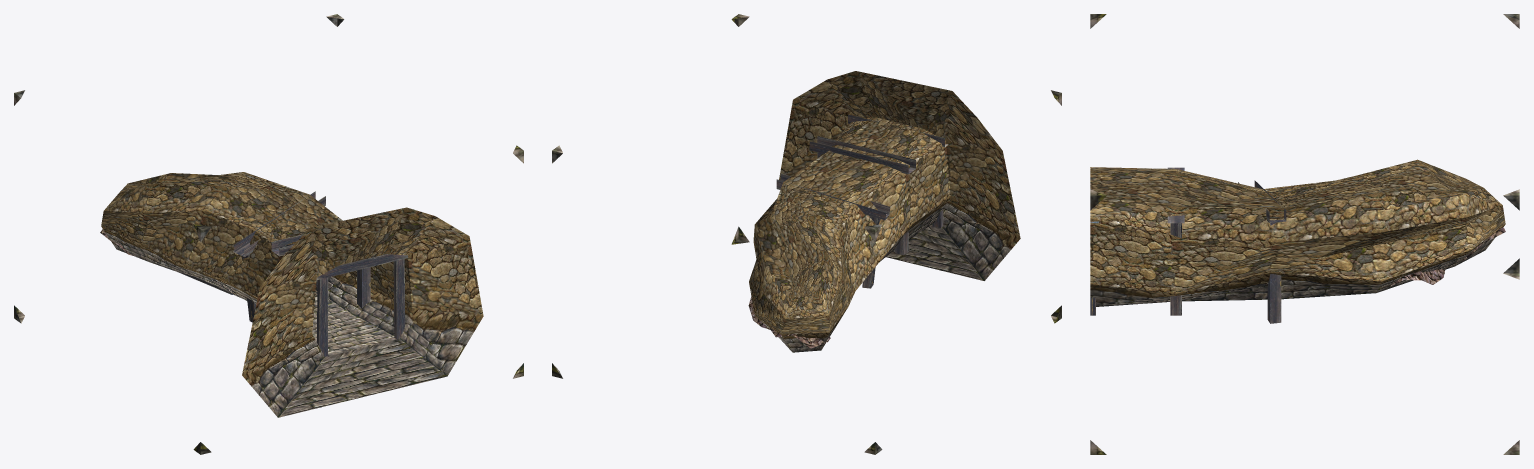
Rendered from Lbm_1e.glb.
3 renders of one model, left to right at view 1: azimuth 30°, elevation 25°; view 2: azimuth 150°, elevation 25°; view 3: azimuth 270°, elevation 25°, orthographic. The views are drawn at different scales.
Parts seen in each view (by area): view 1: Lbm_1e-col; view 2: Lbm_1e-col; view 3: Lbm_1e-col.
Part boxes in pixels (left/top/right/bottom): Lbm_1e-col: left=14, top=14, right=523, bottom=454; Lbm_1e-col: left=552, top=14, right=1061, bottom=454; Lbm_1e-col: left=1090, top=14, right=1519, bottom=454.
Size of the model in its own units: 15 by 10 by 15.
6 materials, 6 textured.
